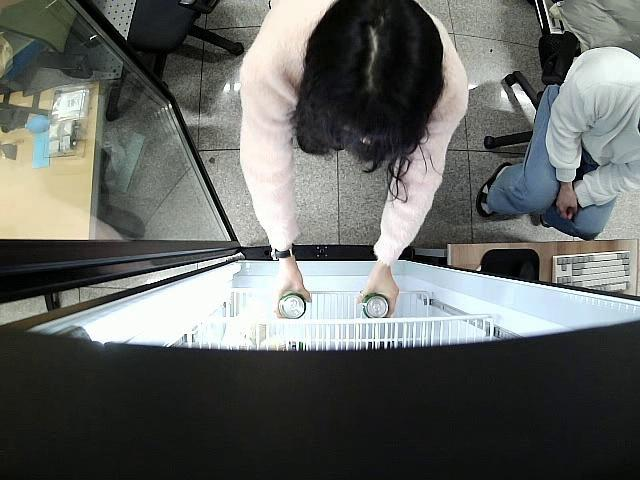12_chilsungCider: (360, 292, 390, 318), (279, 294, 306, 320)
